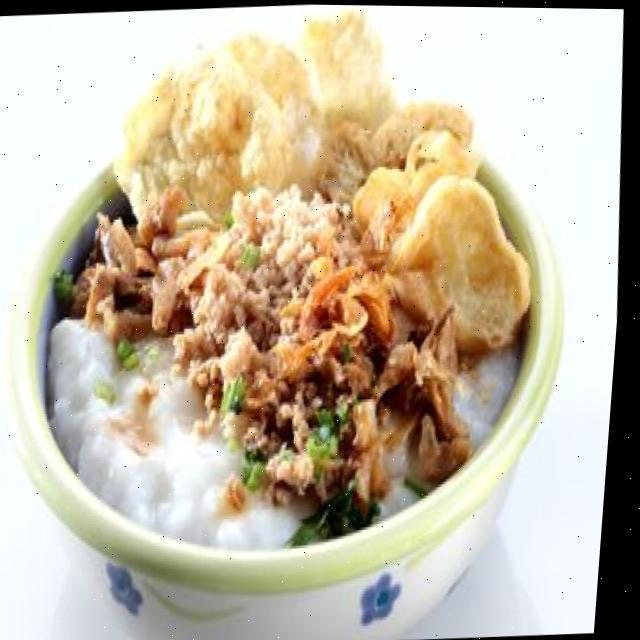bubur ayam: (21, 106, 542, 561)
mangkuk: (0, 0, 607, 640)
